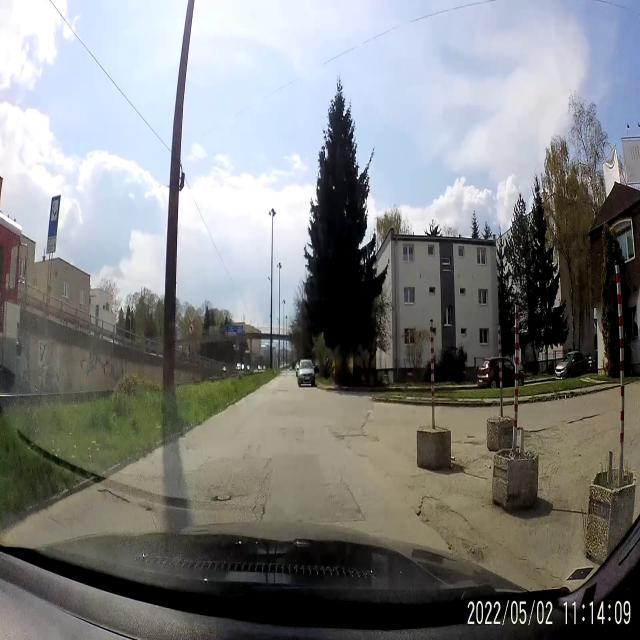Manhole: (215, 490, 233, 504)
Pothole: (415, 494, 497, 556), (98, 486, 132, 506), (566, 411, 602, 426), (527, 426, 560, 438), (138, 502, 154, 514), (466, 432, 474, 442), (277, 388, 288, 393)
